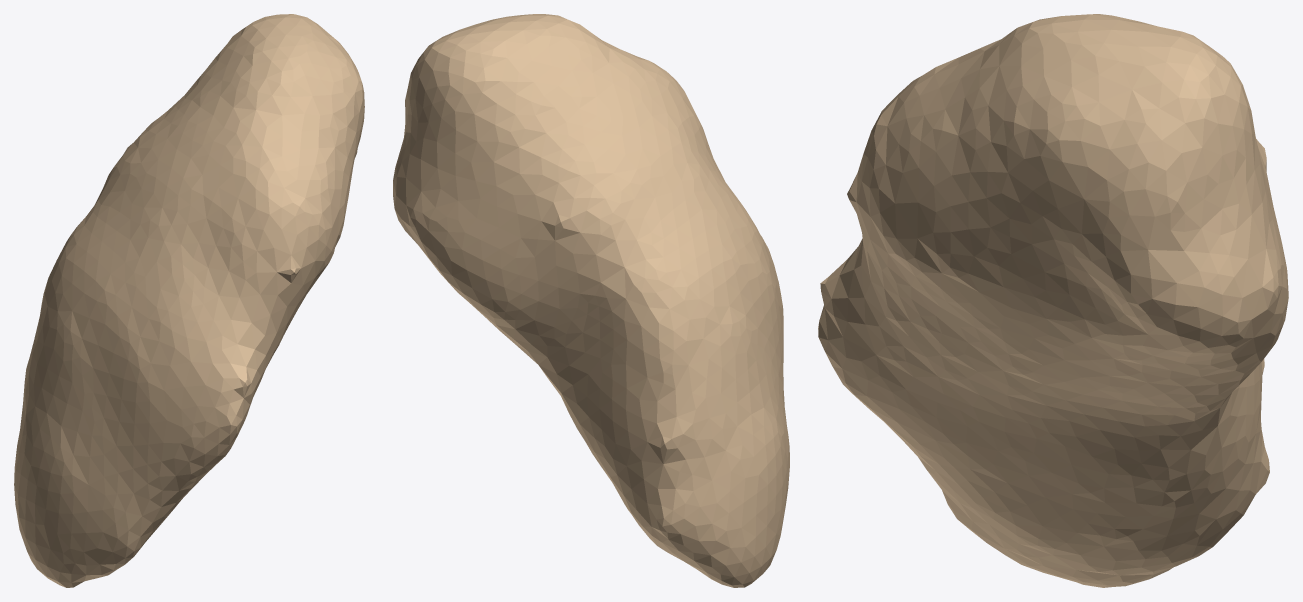
File: Left_Pallidum.glb
3 renders of one model, left to right at view 1: azimuth 30°, elevation 25°; view 2: azimuth 150°, elevation 25°; view 3: azimuth 270°, elevation 25°, orthographic. The views are drawn at different scales.
Parts seen in each view (by area): view 1: world; view 2: world; view 3: world.
Part boxes in pixels (box(x1,y1,x2,y2)): world: box(14, 14, 364, 587); world: box(393, 14, 789, 587); world: box(818, 14, 1288, 587).
Size of the model in its own units: 17.05 by 23.86 by 14.19.
